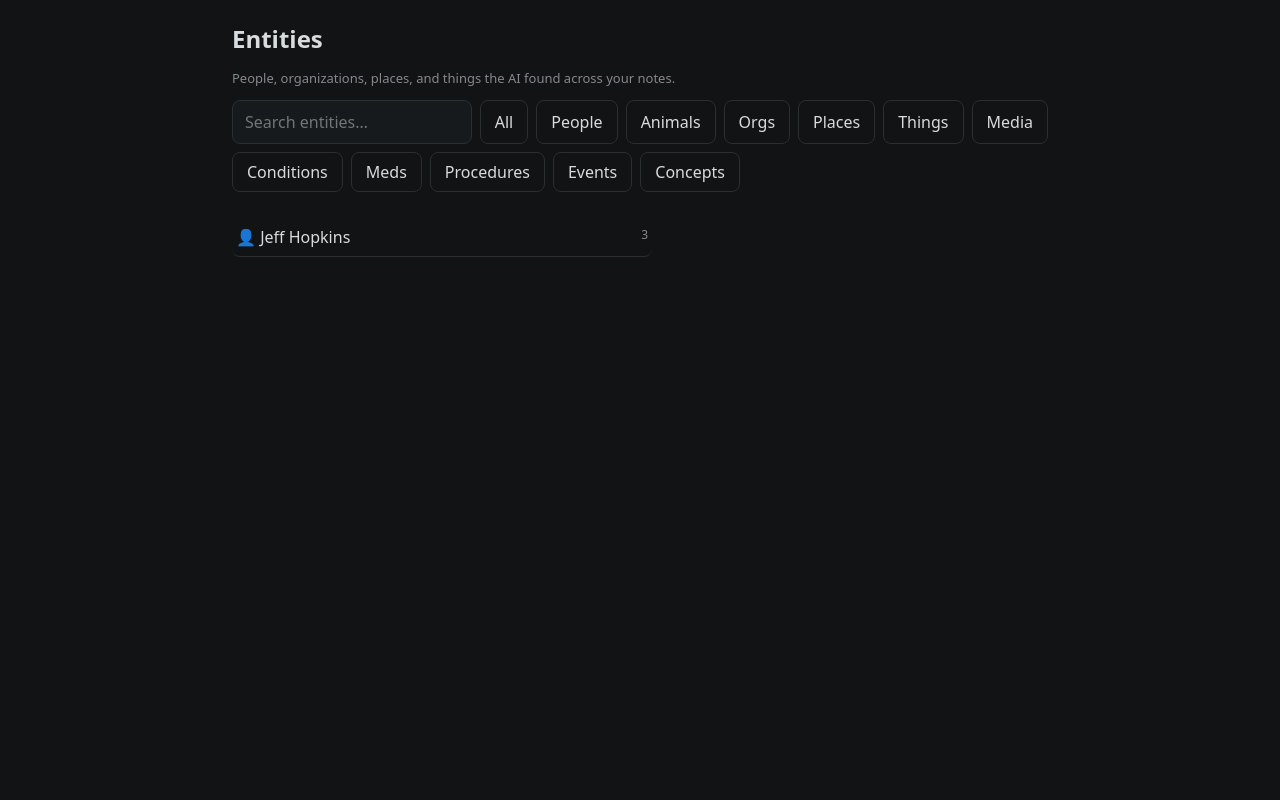
Test case: EntitiesPage › adding an alias POSTs the display to the entity's aliases endpoint
This screenshot has width=1280, height=800.
Click the button "👤 Jeff Hopkins 3" at (305,237), box [232, 218, 652, 257]
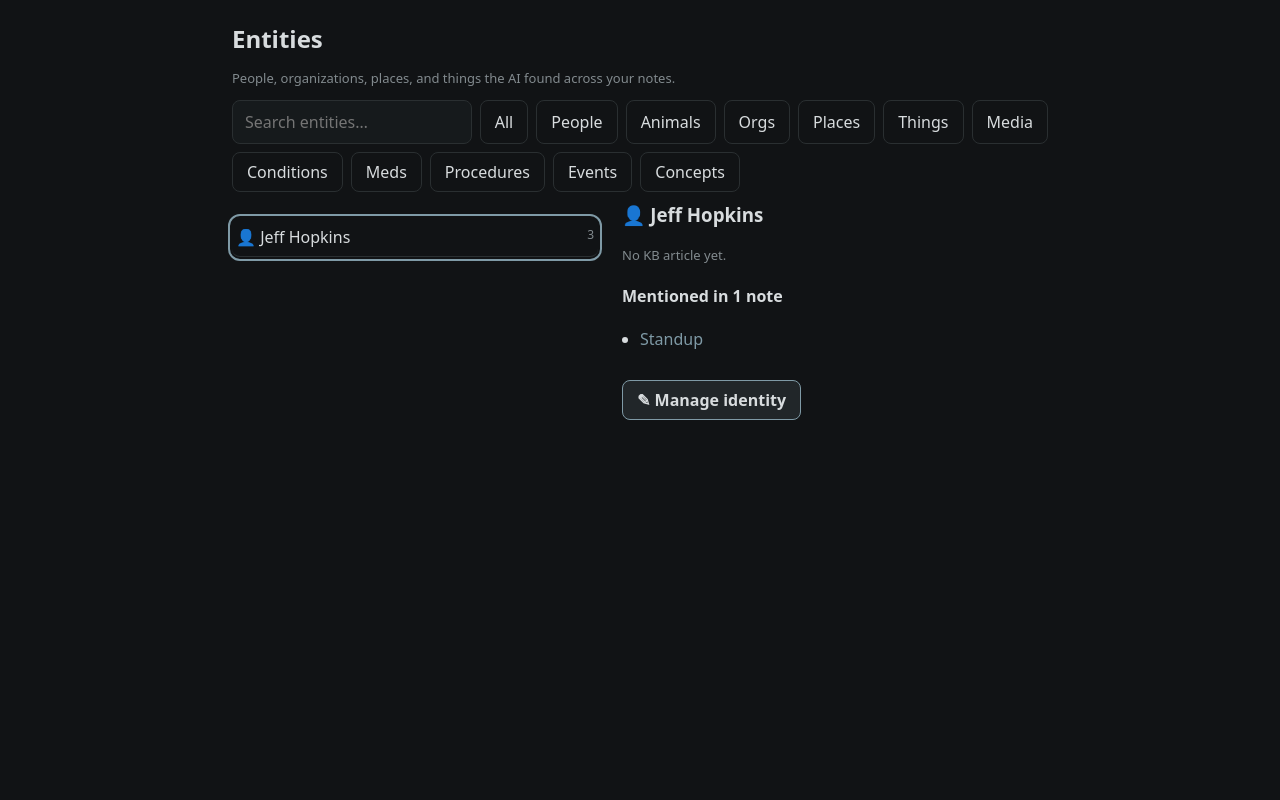
Expected: the heading "👤 Jeff Hopkins" is shown, [622, 202, 763, 227]
Click the button "✎ Manage identity" at (712,400), box [622, 380, 801, 420]
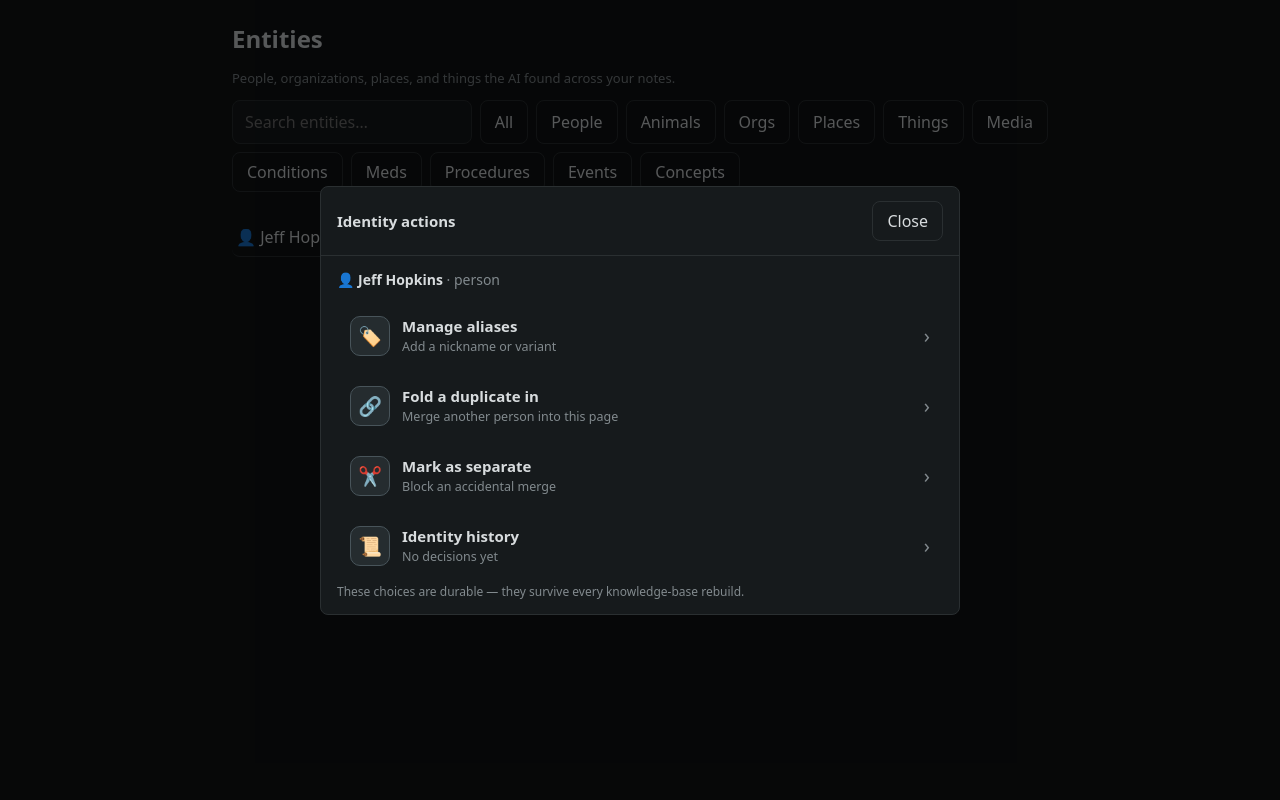
Click the button "🏷️ Manage aliases Add a nickname or variant ›" at (370,336), box [337, 302, 943, 368]
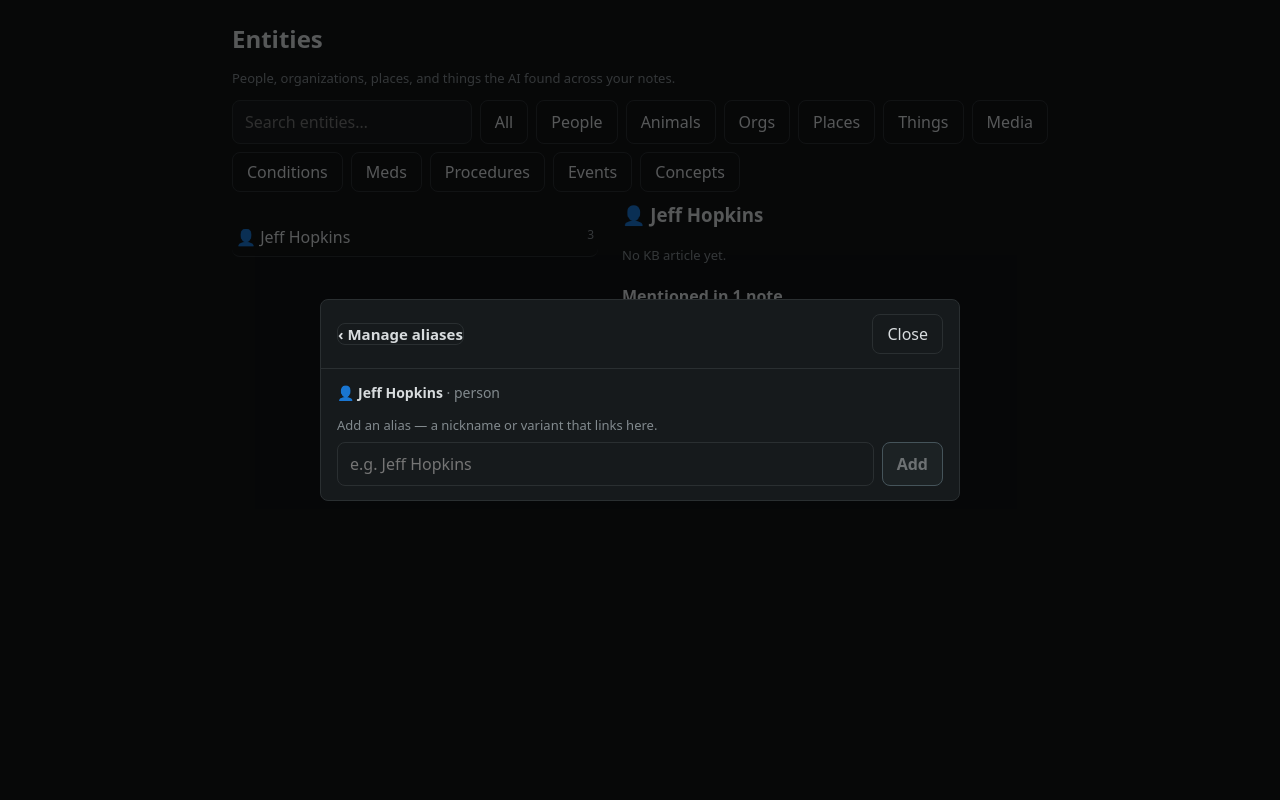
Type "Jeff H" into the field with placeholder "e.g. Jeff Hopkins" at (605,464), box [337, 442, 874, 486]
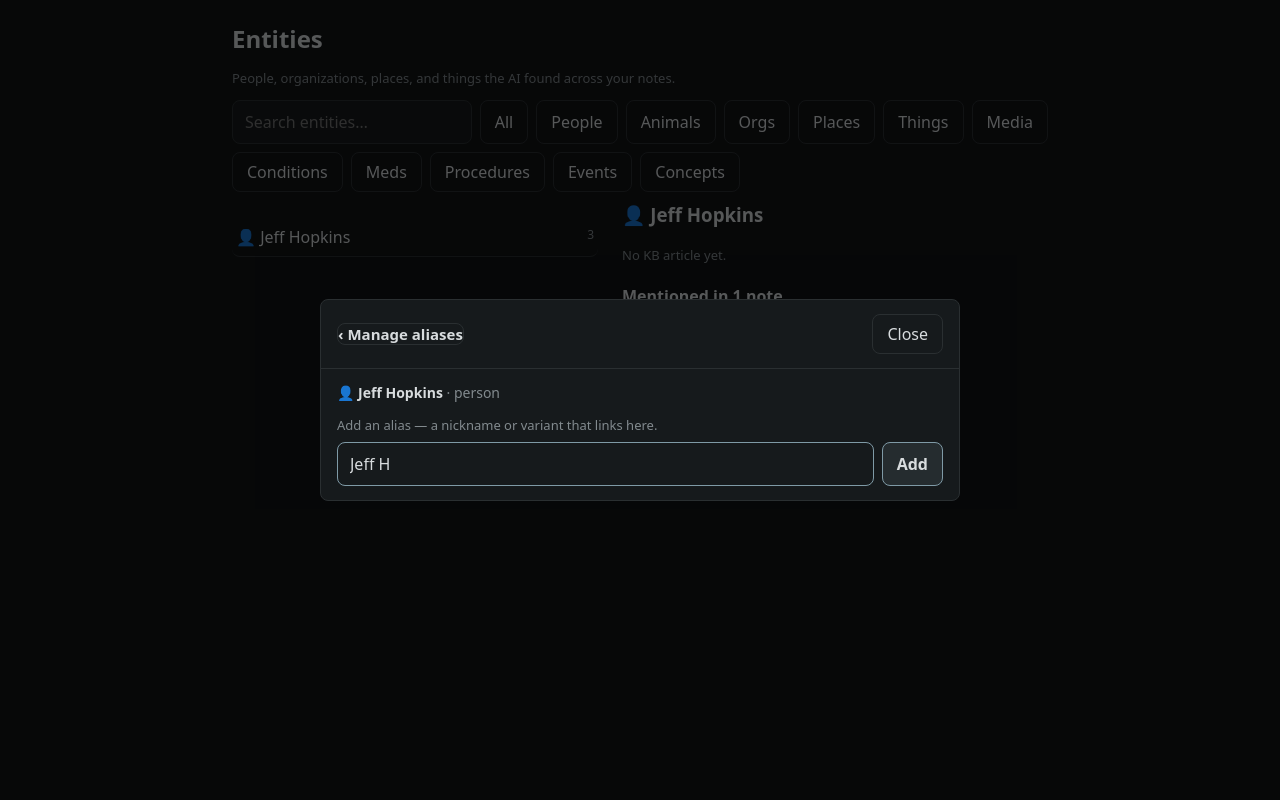
Click the button "Add" at (912,464), box [882, 442, 943, 486]
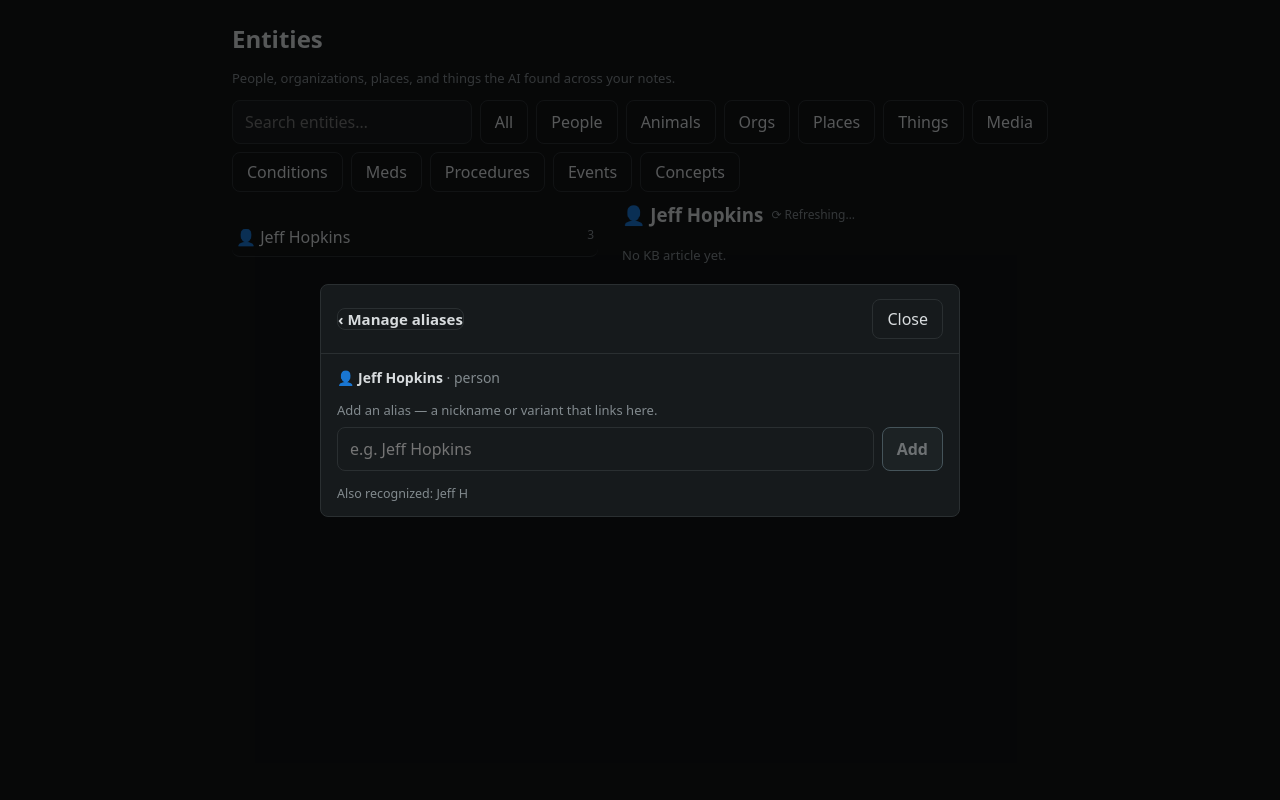
Expected: the text "Also recognized: Jeff H" is shown, [337, 484, 468, 502]
